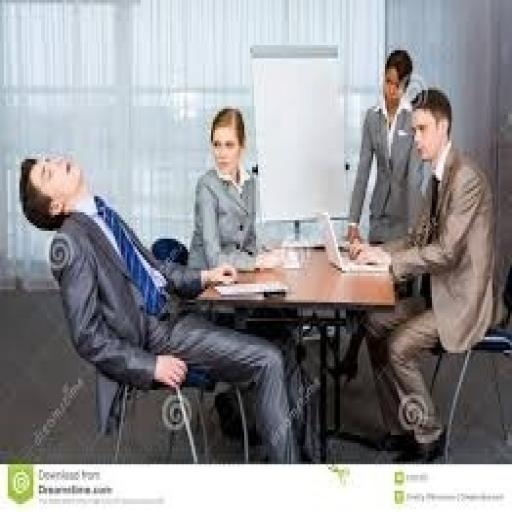sleeping: (16, 148, 303, 462)
